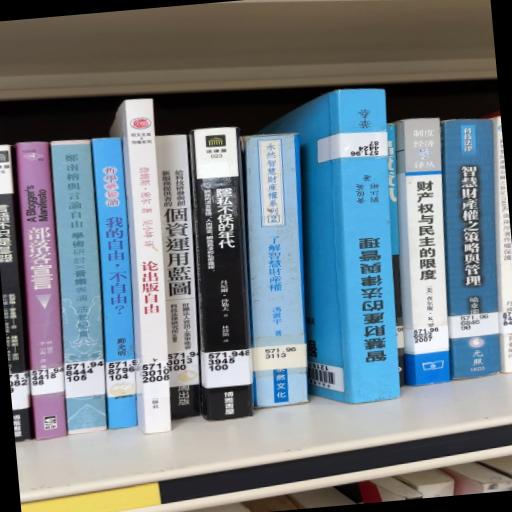book: (190, 128, 254, 421), (51, 141, 108, 436), (442, 120, 501, 380), (396, 119, 451, 387), (157, 136, 202, 420)
reverse: (260, 90, 401, 404)
